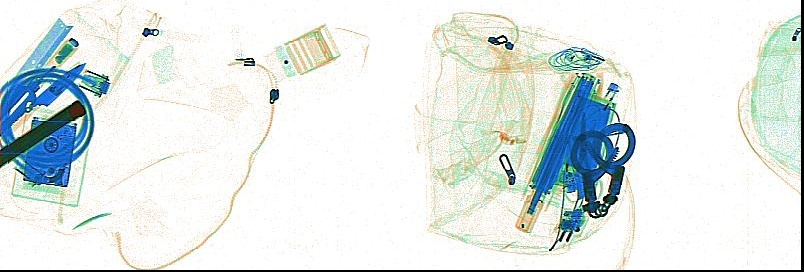handcuffs: (570, 120, 636, 217)
knife: (1, 38, 78, 139), (3, 61, 85, 136)
lighter: (598, 82, 619, 110)
scissors: (563, 111, 603, 201)
